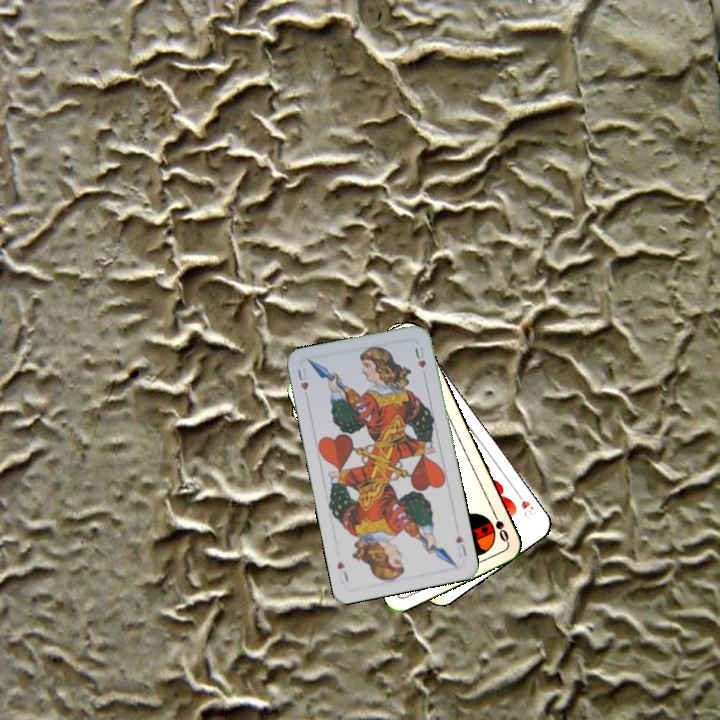H10: (511, 487, 538, 521)
HU: (293, 363, 311, 393), (452, 531, 469, 559)
SO: (488, 506, 511, 545)
